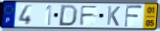1: (45, 5, 53, 26)
4: (18, 4, 33, 26)
D: (57, 4, 79, 27)
F: (123, 4, 144, 28), (79, 5, 100, 27)
K: (106, 5, 122, 27)
